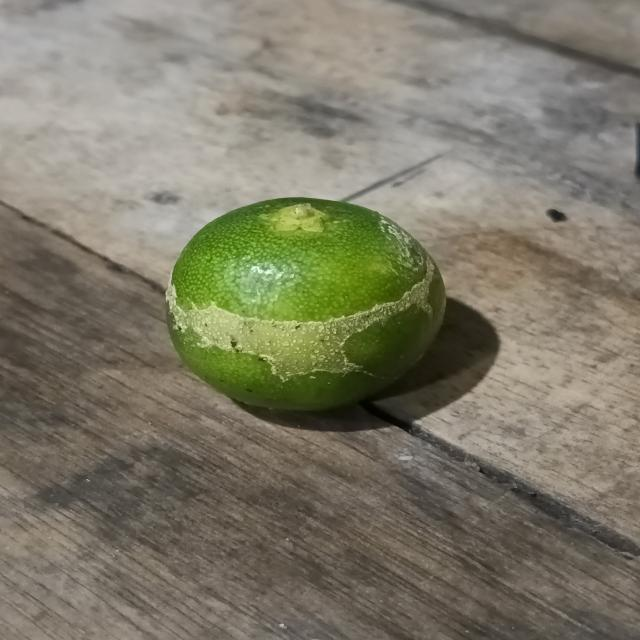thrips: (160, 198, 448, 415)
